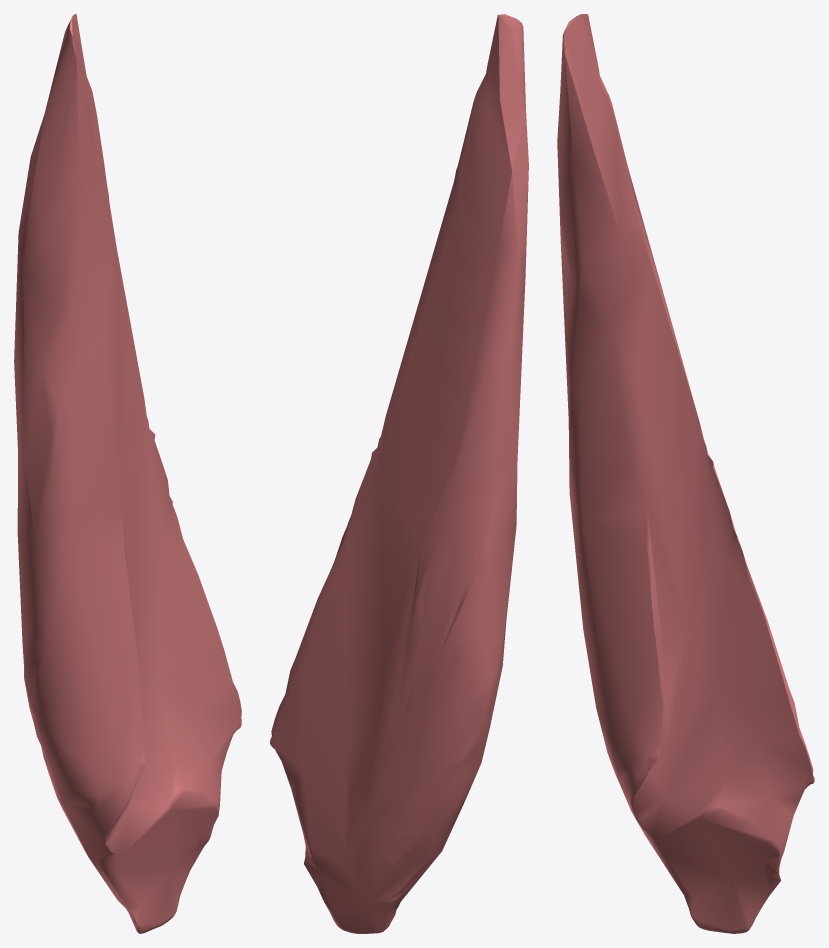
The picture shows the model from 3 angles, left to right: view 1: azimuth 30°, elevation 25°; view 2: azimuth 150°, elevation 25°; view 3: azimuth 330°, elevation 25°; orthographic projection. The views are drawn at different scales.
Parts seen in each view (by area): view 1: FJ1480M; view 2: FJ1480M; view 3: FJ1480M.
Part boxes in pixels (bbox=[...]): FJ1480M: bbox=[14, 14, 241, 933]; FJ1480M: bbox=[270, 14, 528, 933]; FJ1480M: bbox=[557, 14, 814, 933].
Size of the model in its own units: 0.0593 by 0.2255 by 0.0254.
